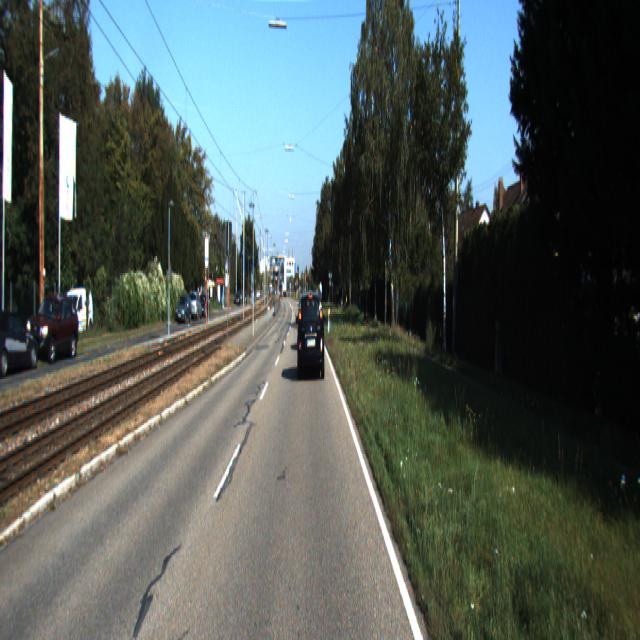Car: (27, 295, 80, 365), (0, 307, 41, 379), (298, 289, 326, 380), (59, 283, 95, 340), (176, 292, 192, 322), (188, 288, 204, 318)
